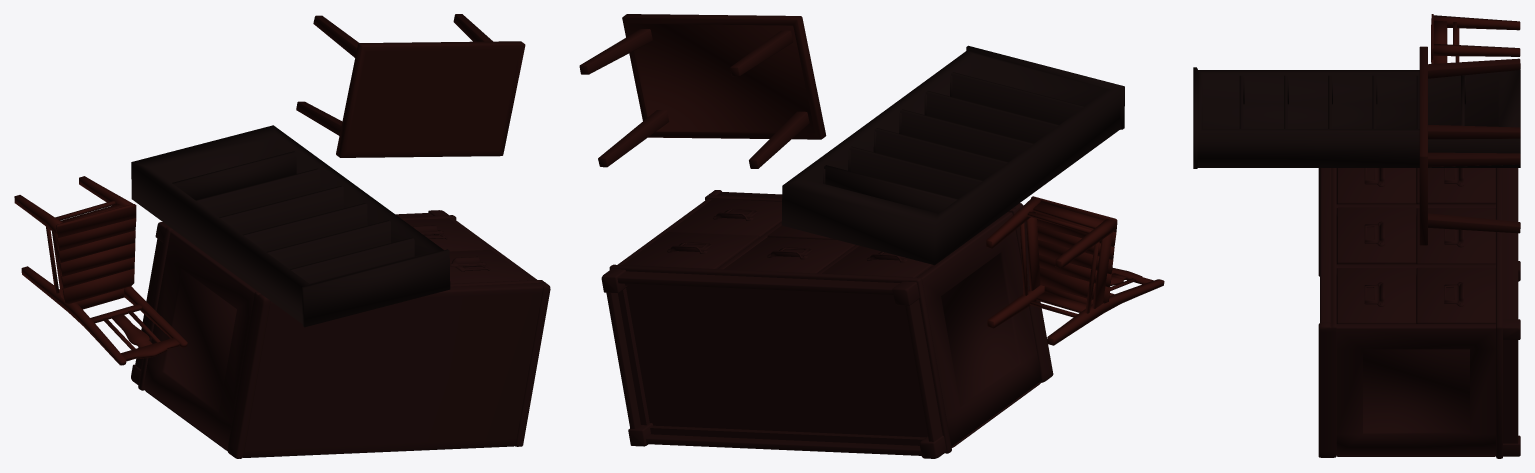
File: scene_0006_diffuse.obj
The picture shows the model from 3 angles, left to right: view 1: azimuth 30°, elevation 25°; view 2: azimuth 150°, elevation 25°; view 3: azimuth 270°, elevation 25°; orthographic projection. The views are drawn at different scales.
Visible parts, largest first — view 1: diffuse_cabinet_01, diffuse_shelf_03, diffuse_table_02, diffuse_chair_04; view 2: diffuse_cabinet_01, diffuse_shelf_03, diffuse_table_02, diffuse_chair_04; view 3: diffuse_cabinet_01, diffuse_shelf_03, diffuse_table_02, diffuse_chair_04.
Part boxes in pixels (left/top/right/bottom): diffuse_cabinet_01: left=131, top=210, right=550, bottom=458; diffuse_shelf_03: left=131, top=125, right=450, bottom=327; diffuse_table_02: left=296, top=14, right=525, bottom=157; diffuse_chair_04: left=14, top=176, right=187, bottom=365; diffuse_cabinet_01: left=601, top=190, right=1053, bottom=458; diffuse_shelf_03: left=781, top=45, right=1124, bottom=265; diffuse_table_02: left=579, top=14, right=826, bottom=168; diffuse_chair_04: left=986, top=196, right=1164, bottom=345; diffuse_cabinet_01: left=1318, top=168, right=1520, bottom=458; diffuse_shelf_03: left=1193, top=67, right=1520, bottom=168; diffuse_table_02: left=1419, top=46, right=1520, bottom=245; diffuse_chair_04: left=1431, top=14, right=1520, bottom=63.
Bounding box in the file's own units: 234 × 188 × 153.
